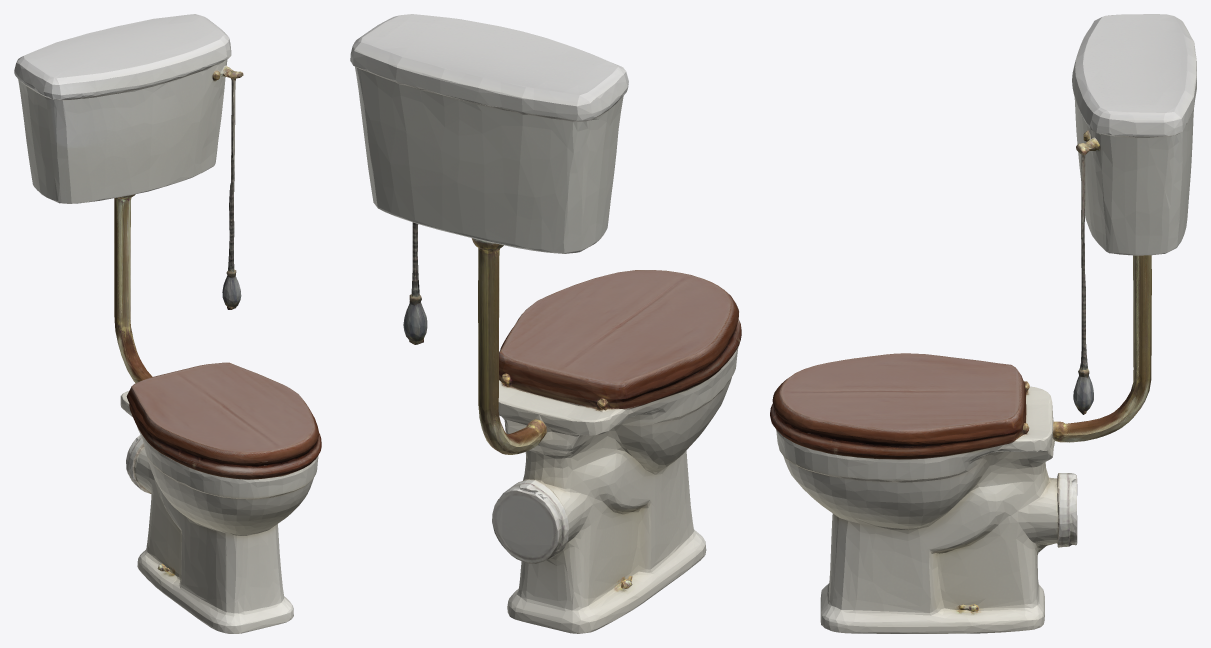
3 views of the same model, side by side, from view 1: azimuth 30°, elevation 25°; view 2: azimuth 150°, elevation 25°; view 3: azimuth 270°, elevation 25° (orthographic). The views are drawn at different scales.
Visible parts, largest first — view 1: world; view 2: world; view 3: world.
Boxes of the visible parts, x1,y1,x2,y2 form: world: (14, 14, 321, 633); world: (350, 14, 741, 633); world: (770, 14, 1196, 633).
Bounding box in the file's own units: 0.4211 × 0.9991 × 0.7029.
Materials: 1 (1 with a texture image).
